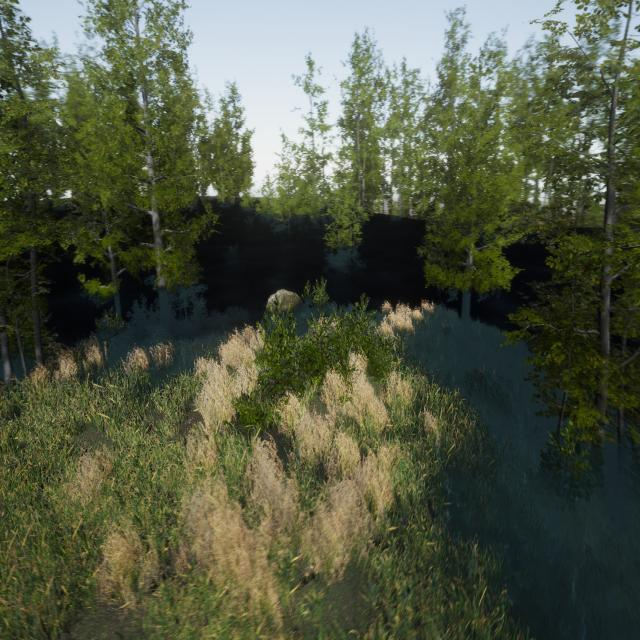Human: (314, 308, 332, 339)
